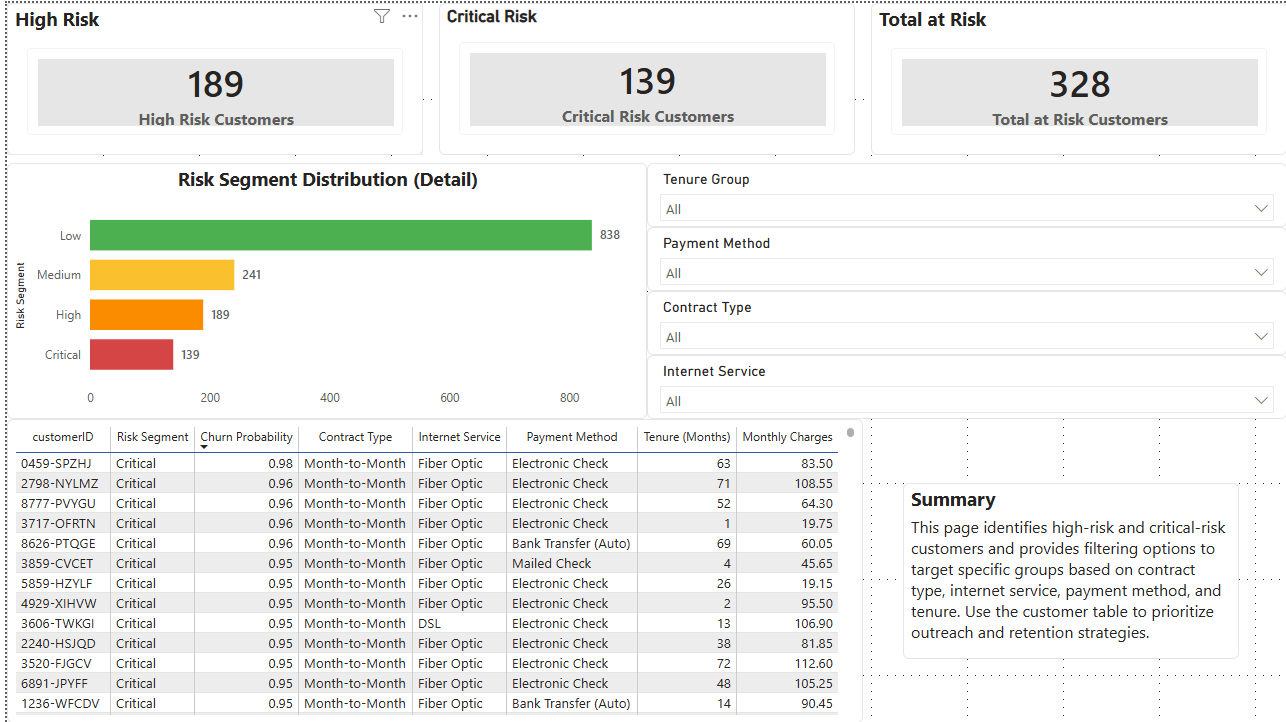

The dashboard page shown, as its layout file describes it:
{"tool":"powerbi","page":{"name":"Risk Segmentation","canvas":[1280,720],"ordinal":1},"visuals":[{"type":"cardVisual","title":"Critical Risk","fields":{"Data":["_Measures.Critical Risk Customers"]},"box":[432,0,416,152],"z":0},{"type":"cardVisual","title":"High Risk","fields":{"Data":["_Measures.High Risk Customers"]},"box":[0,0,416,152],"z":1000},{"type":"cardVisual","title":"Total at Risk","fields":{"Data":["_Measures.Total at Rsik"]},"box":[864,0,416,152],"z":2000},{"type":"clusteredBarChart","title":"Risk Segment Distribution (Detail)","fields":{"Category":["Telco Churn Dashboard.RiskSegment"],"Y":["_Measures.Total Customers"]},"box":[0,160,640,256],"z":3000},{"type":"slicer","fields":{"Values":["Telco Churn Dashboard.Tenure Group"]},"box":[640,160,640,64],"z":4000},{"type":"slicer","fields":{"Values":["Telco Churn Dashboard.Contract Type"]},"box":[640,288,640,64],"z":5000},{"type":"slicer","fields":{"Values":["Telco Churn Dashboard.Payment Method"]},"box":[640,224,640,64],"z":6000},{"type":"slicer","fields":{"Values":["Telco Churn Dashboard.Internet Service"]},"box":[640,352,640,64],"z":7000},{"type":"tableEx","fields":{"Values":["Telco Churn Dashboard.customerID","Telco Churn Dashboard.Risk Segment","Telco Churn Dashboard.Churn Probability","Telco Churn Dashboard.Contract Type","Telco Churn Dashboard.Internet Service","Telco Churn Dashboard.Payment Method","Telco Churn Dashboard.Tenure (Months)","Telco Churn Dashboard.Monthly Charges"]},"box":[0,416,856,304],"z":8000},{"type":"textbox","title":"Summary","box":[896,480,336,176],"z":9000}]}

Visuals, with their boxes in screenshot pixels (x1, y1, x2, y2), scaled from the page's 1280x720 canvas onto the 1286x722 screenshot:
"Critical Risk" cardVisual: <bbox>434, 0, 852, 152</bbox>
"High Risk" cardVisual: <bbox>0, 0, 418, 152</bbox>
"Total at Risk" cardVisual: <bbox>868, 0, 1285, 152</bbox>
"Risk Segment Distribution (Detail)" clusteredBarChart: <bbox>0, 160, 643, 417</bbox>
slicer - Telco Churn Dashboard.Tenure Group: <bbox>643, 160, 1285, 225</bbox>
slicer - Telco Churn Dashboard.Contract Type: <bbox>643, 289, 1285, 353</bbox>
slicer - Telco Churn Dashboard.Payment Method: <bbox>643, 225, 1285, 289</bbox>
slicer - Telco Churn Dashboard.Internet Service: <bbox>643, 353, 1285, 417</bbox>
tableEx - Telco Churn Dashboard.customerID x Telco Churn Dashboard.Risk Segment: <bbox>0, 417, 860, 721</bbox>
"Summary" textbox: <bbox>900, 481, 1238, 658</bbox>
